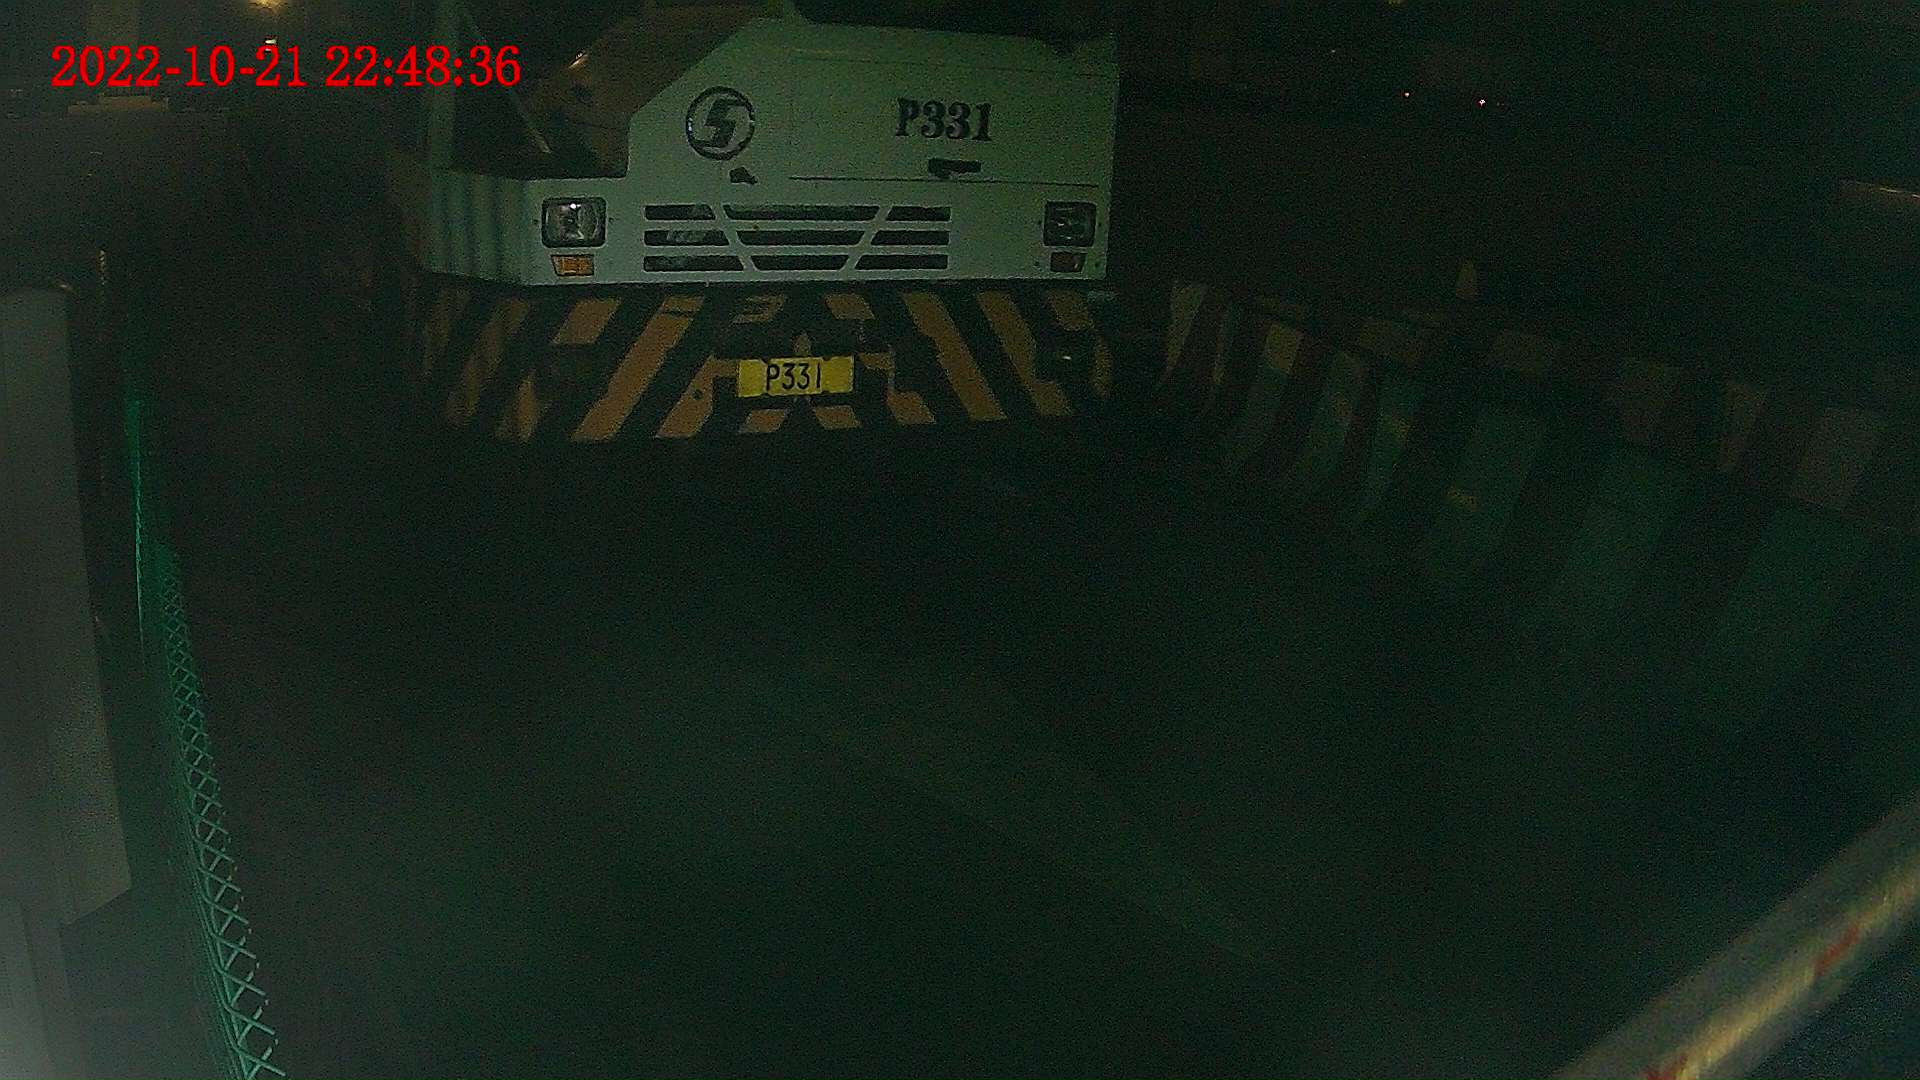head: (378, 1, 1120, 480)
plate: (741, 363, 851, 386)
